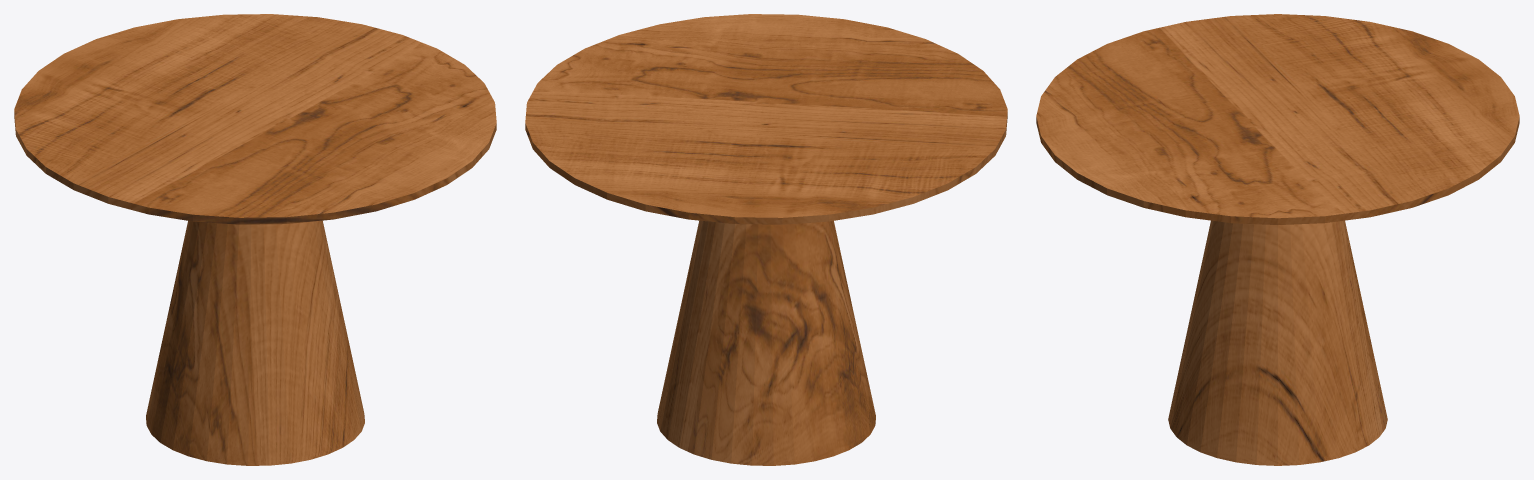
Rendered from table.fbx.
3 renders of one model, left to right at view 1: azimuth 30°, elevation 25°; view 2: azimuth 150°, elevation 25°; view 3: azimuth 270°, elevation 25°, orthographic.
Parts seen in each view (by area): view 1: Table; view 2: Table; view 3: Table.
Boxes of the visible parts, <box> form: Table: <box>14,14,496,465</box>; Table: <box>525,14,1007,465</box>; Table: <box>1036,14,1519,465</box>.
Bounding box in the file's own units: 95.72 × 66.3 × 95.72.
Materials: 1 (1 with a texture image).
